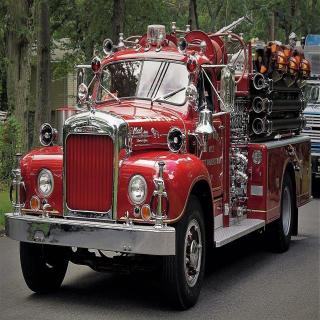Fire_truck: (4, 18, 313, 310)
